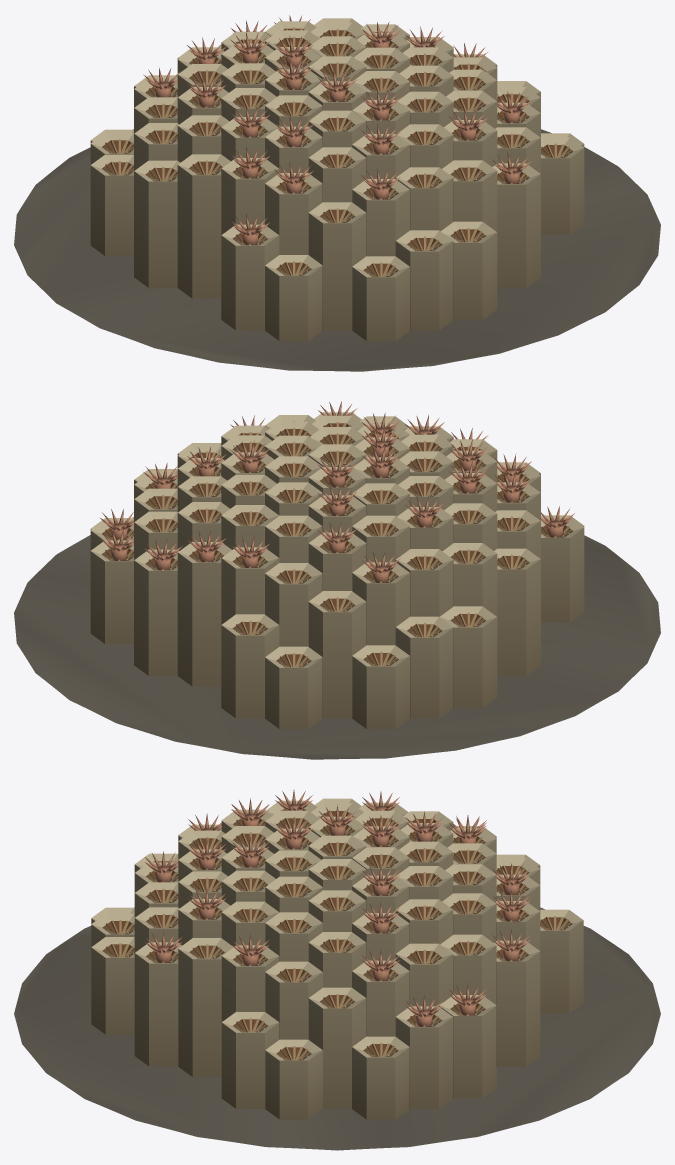
Rendered from ColumnariaAlveolata.fbx.
3 views of the same model, one above another, from view 1: azimuth 30°, elevation 25°; view 2: azimuth 150°, elevation 25°; view 3: azimuth 270°, elevation 25° (orthographic).
Parts seen in each view (by area): view 1: ColumnariaAlveolata; view 2: ColumnariaAlveolata; view 3: ColumnariaAlveolata.
Part boxes in pixels (x1,y1,x2,y2): ColumnariaAlveolata: [14, 15, 660, 371]; ColumnariaAlveolata: [14, 401, 660, 759]; ColumnariaAlveolata: [14, 790, 660, 1150].
Bounding box in the file's own units: 1.67 × 0.5148 × 1.67.
